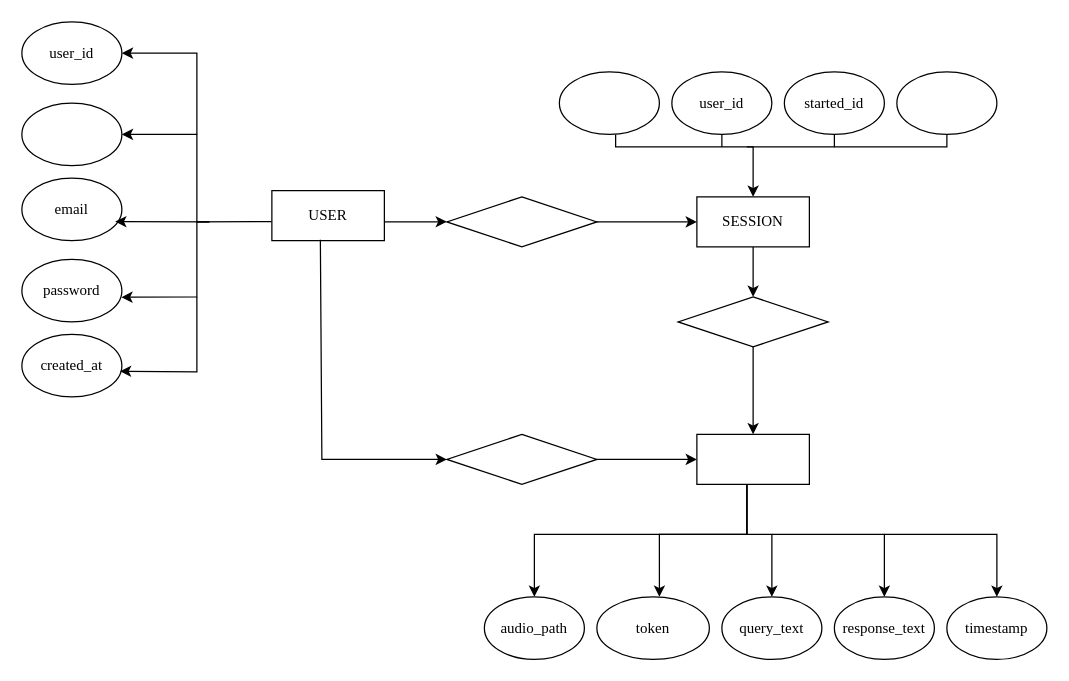
This 1069x681 diagram has some shape labels left out. Here are the shapes that lost their labels. From the top down, the centre of each, then its label:
At [608,102]: "session_id".
At [946,102]: "ended_id".
At [71,134]: "name".
At [521,221]: "Starts".
At [752,321]: "Includes".
At [521,458]: "Makes".
At [752,458]: "CONVERSATION".
